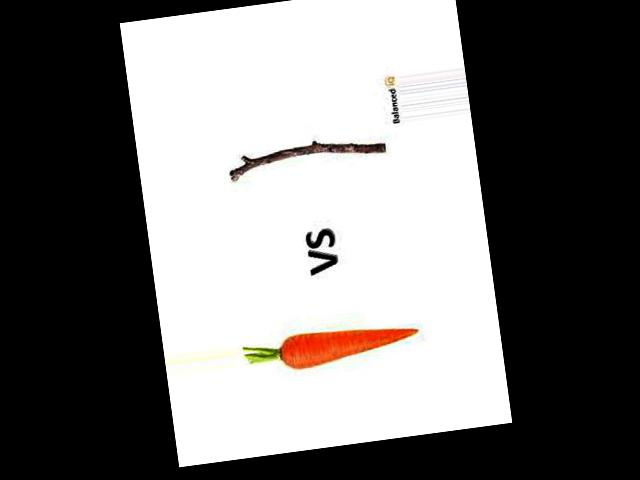carrot: (270, 311, 426, 374)
